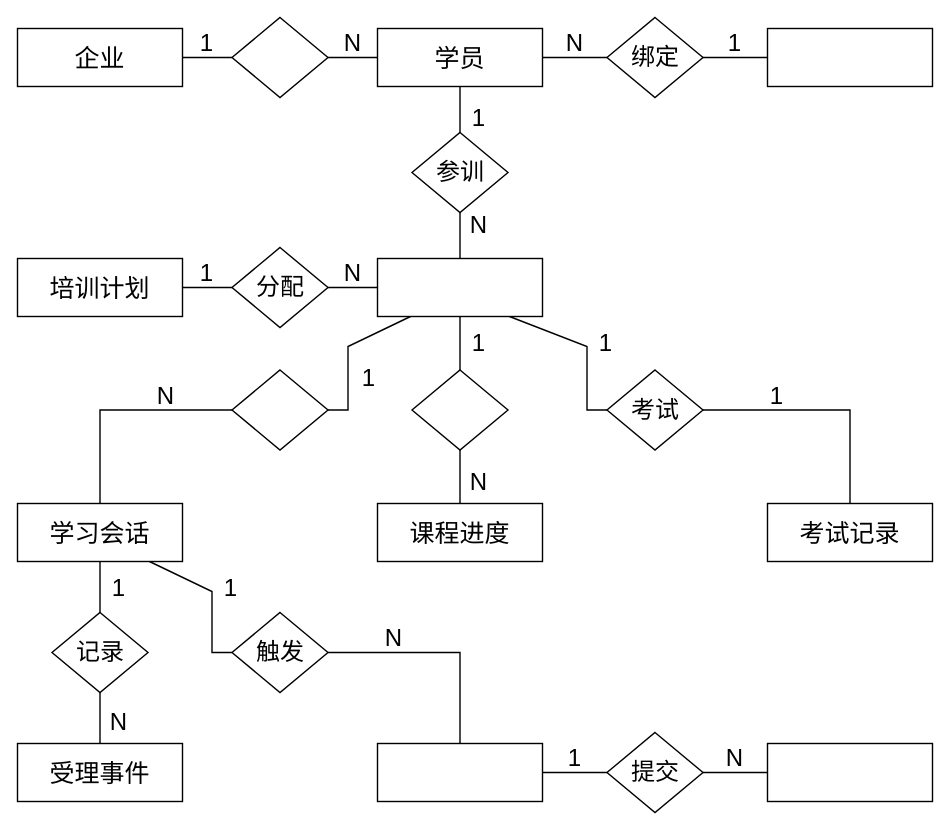
The diagram is 951 pixels wide and 831 high, and some of its shapes have lost their labels. The shapes that lost their labels are listed below. From the top down, each one's box as (x1, y1, x2, y2) in pixels, then its label:
(231, 16, 328, 98): 归属
(766, 27, 933, 87): 车辆
(376, 257, 543, 317): 参训任务
(231, 369, 328, 450): 产生
(411, 369, 508, 450): 累计
(376, 742, 543, 802): 抽验任务
(766, 742, 933, 802): 抽验提交
